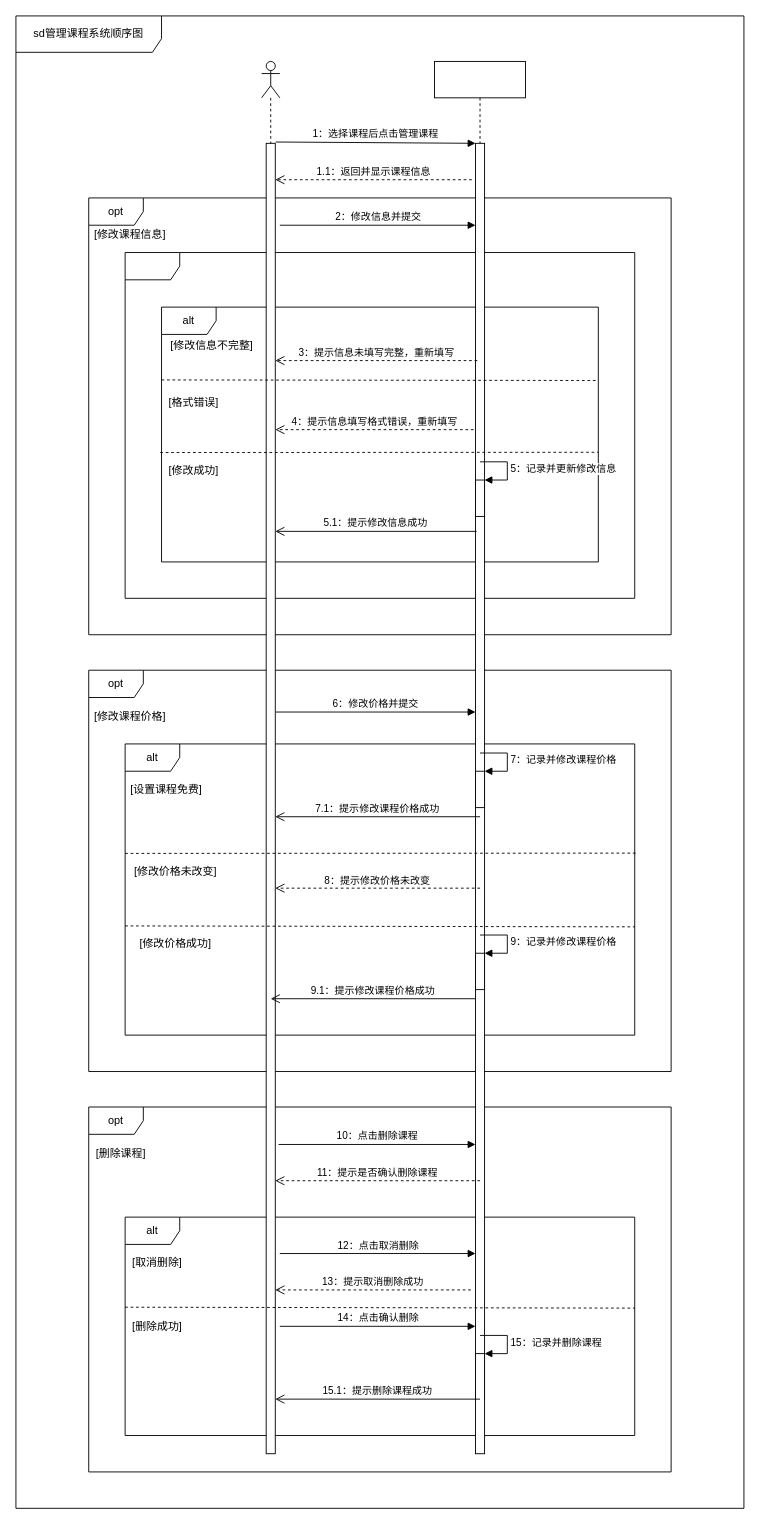
The diagram is 760 pixels wide and 1524 high, and some of its shapes have lost their labels. Each missing label, with the box of its shape:
loop: (124, 252, 635, 598)
教师: (261, 61, 280, 1454)
系统: (434, 61, 526, 1454)
